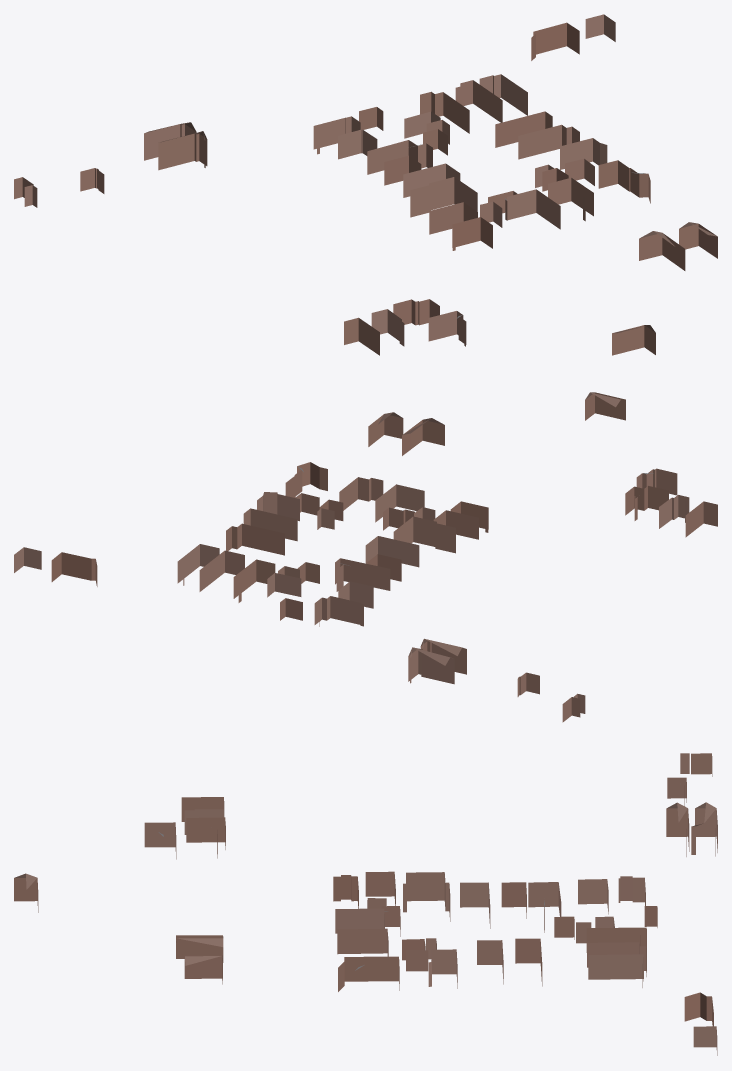
File: c_1636_17830_buildings_residential.glb
3 views of the same model, one above another, from view 1: azimuth 30°, elevation 25°; view 2: azimuth 150°, elevation 25°; view 3: azimuth 270°, elevation 25° (orthographic). The views are drawn at different scales.
Parts seen in each view (by area): view 1: geometry_0; view 2: geometry_0; view 3: geometry_0.
Boxes of the visible parts, x1=… form: geometry_0: x1=14, y1=14, x2=717, y2=355; geometry_0: x1=14, y1=392, x2=717, y2=722; geometry_0: x1=14, y1=753, x2=717, y2=1055.
Size of the model in its own units: 249 by 16.5 by 245.
